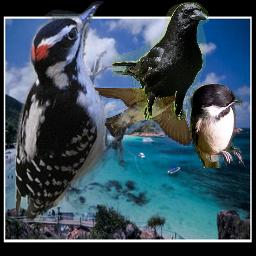Crow: (112, 2, 209, 120)
Swallow: (87, 86, 193, 147), (188, 81, 246, 168)
Woodpecker: (15, 1, 134, 222)
